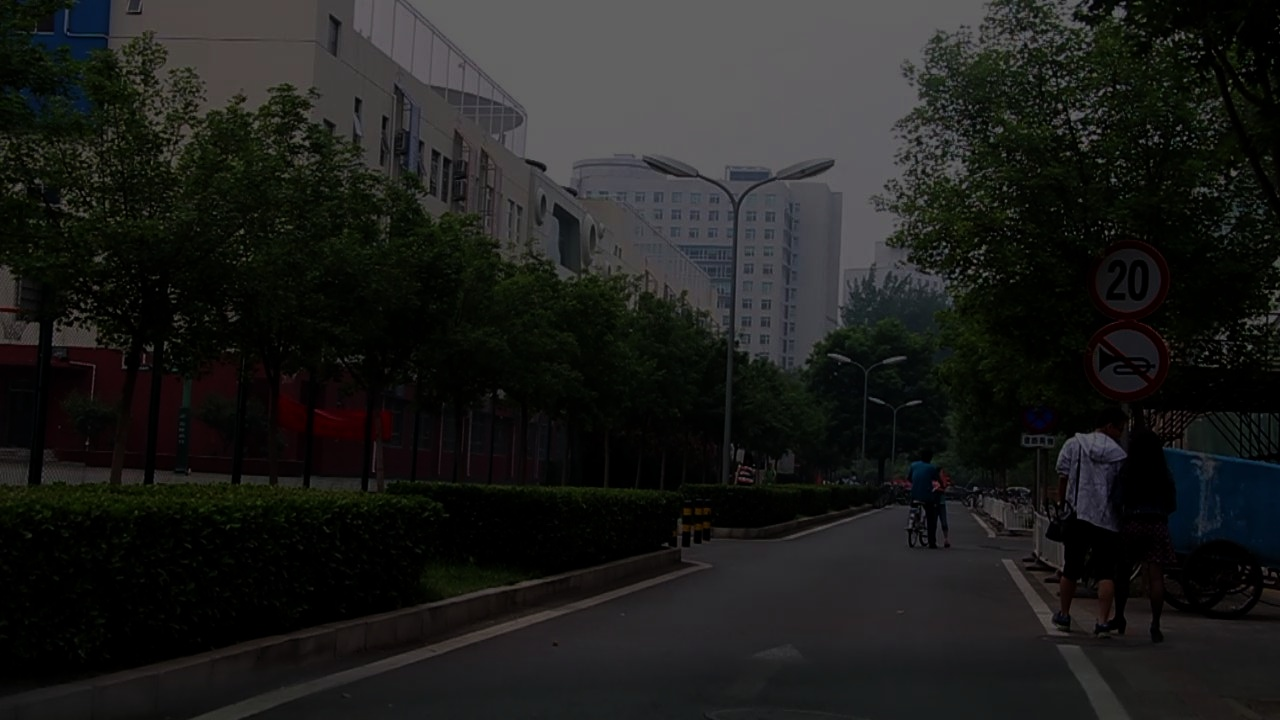Prohibitory Signs: (1082, 320, 1172, 403), (1086, 238, 1173, 322), (1021, 395, 1060, 434)
